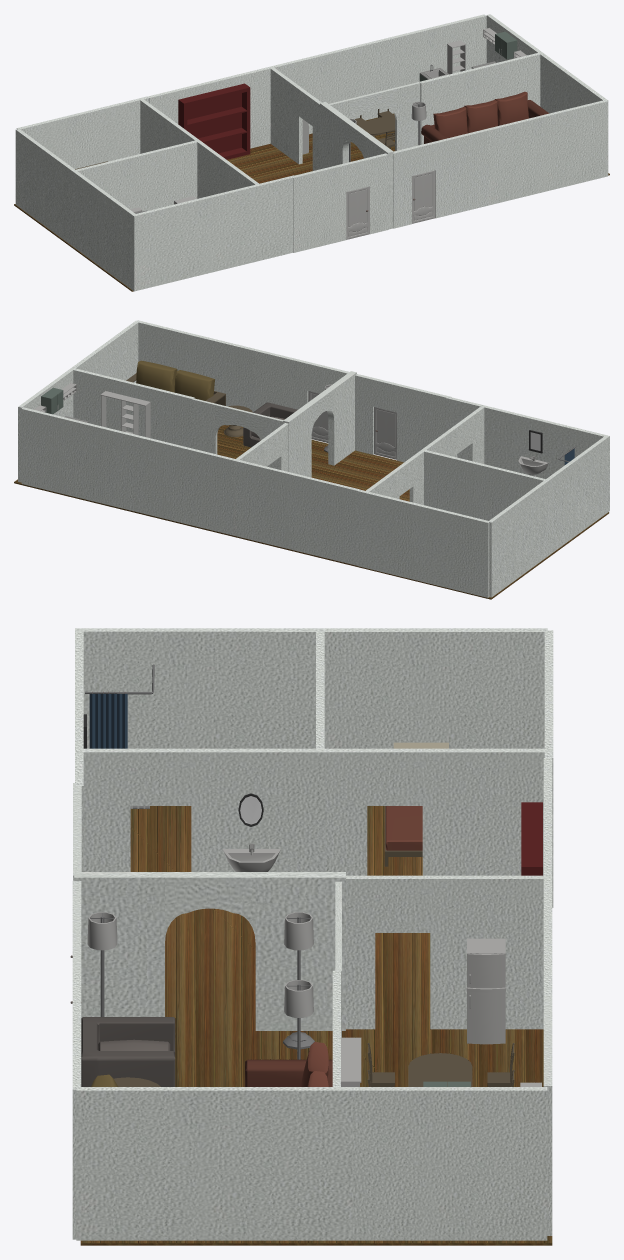
File: HouseInterior.fbx
3 renders of one model, top to bottom at view 1: azimuth 30°, elevation 25°; view 2: azimuth 150°, elevation 25°; view 3: azimuth 270°, elevation 25°, orthographic. The views are drawn at different scales.
Parts seen in each view (by area): view 1: Box001; view 2: Box001; view 3: Box001.
Boxes of the visible parts, x1,y1,x2,y2 form: Box001: (14,14,609,291); Box001: (14,320,609,599); Box001: (70,628,553,1245).
Bounding box in the file's own units: 2338 × 365 × 1023.
Materials: 101 (20 with a texture image).
